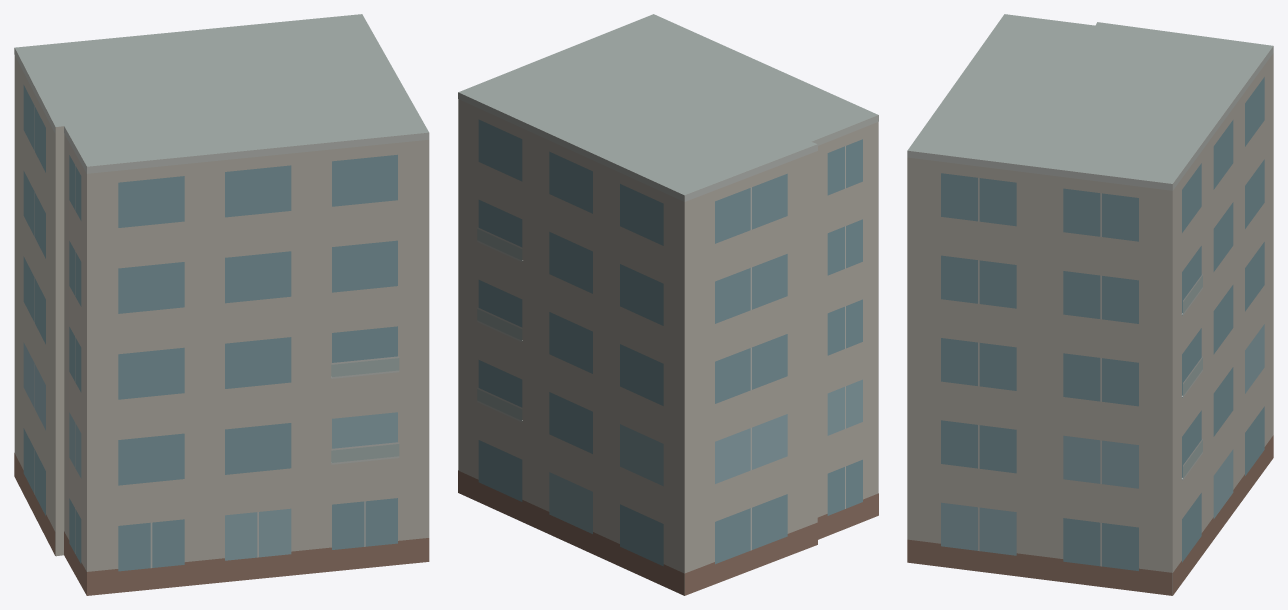
The model's file is survey-upis-32873345.glb.
The picture shows the model from 3 angles, left to right: view 1: azimuth 30°, elevation 25°; view 2: azimuth 150°, elevation 25°; view 3: azimuth 270°, elevation 25°; orthographic projection. The views are drawn at different scales.
Visible parts, largest first — view 1: survey-upis-32873345.tmp; view 2: survey-upis-32873345.tmp; view 3: survey-upis-32873345.tmp.
Boxes of the visible parts, x1,y1,x2,y2 form: survey-upis-32873345.tmp: [14, 14, 429, 595]; survey-upis-32873345.tmp: [458, 14, 878, 595]; survey-upis-32873345.tmp: [907, 14, 1273, 595].
Size of the model in its own units: 12.98 by 14.65 by 11.82.
